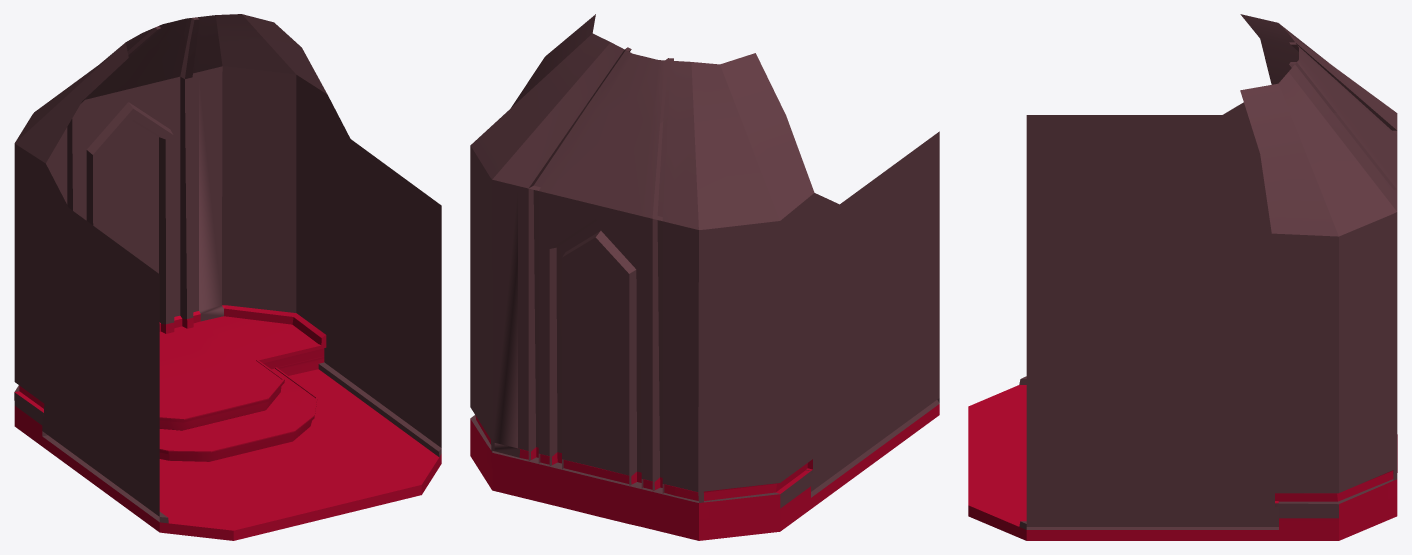
Rendered from Stage.fbx.
3 renders of one model, left to right at view 1: azimuth 30°, elevation 25°; view 2: azimuth 150°, elevation 25°; view 3: azimuth 270°, elevation 25°, orthographic. The views are drawn at different scales.
Parts seen in each view (by area): view 1: polySurface14; view 2: polySurface14; view 3: polySurface14.
Boxes of the visible parts, <box> form: polySurface14: <box>14,14,441,540</box>; polySurface14: <box>470,14,939,540</box>; polySurface14: <box>968,14,1397,540</box>.
Size of the model in its own units: 16.38 by 21.37 by 20.05.
